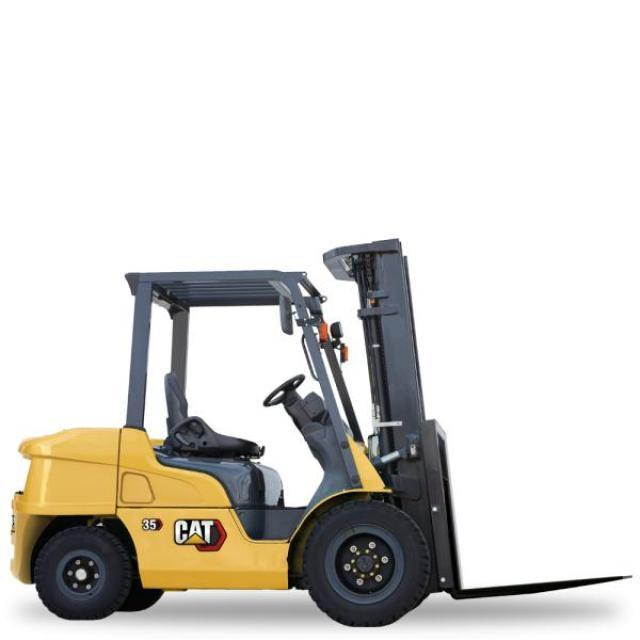forklift: (11, 220, 480, 633)
